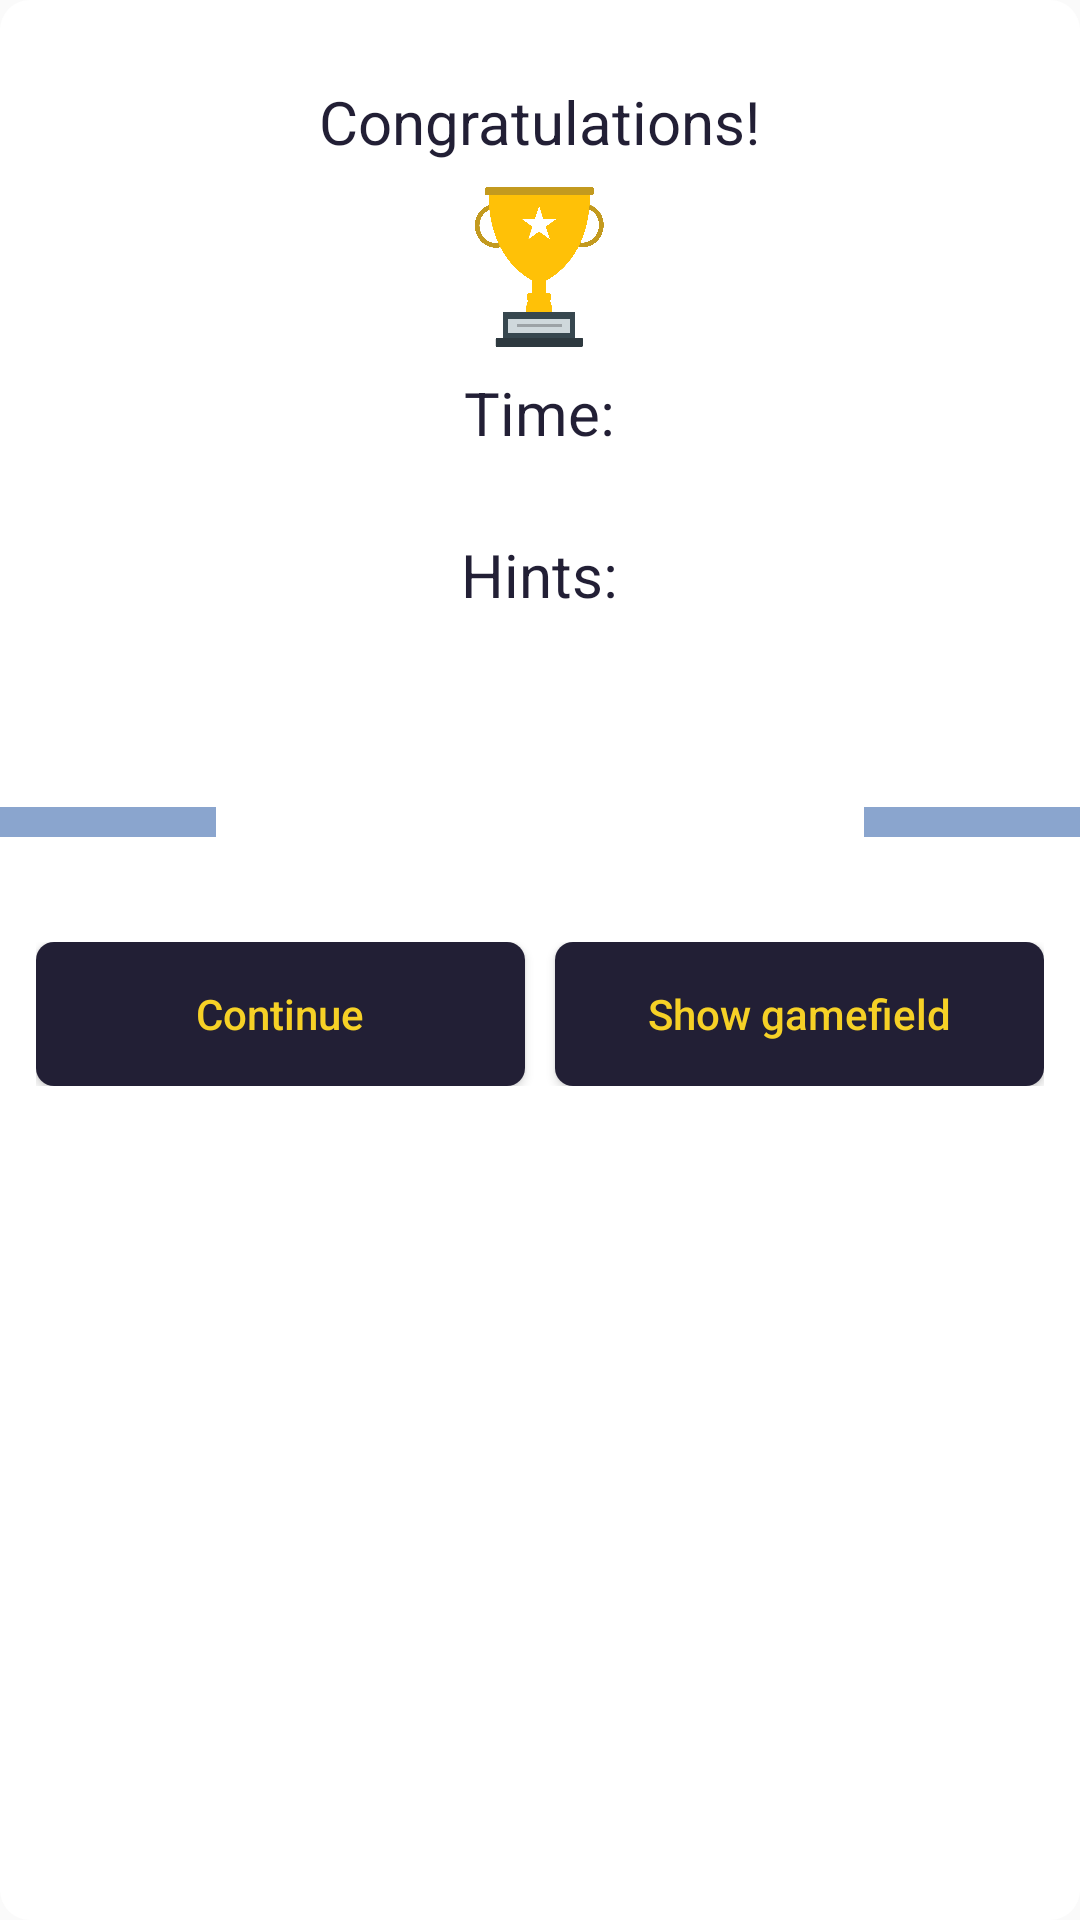

Icons on this 1080w x 1920h Android screen, each with its box as (x1, y1, x2, y2):
trophy: (475, 187, 604, 347)
